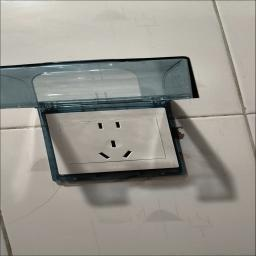outlet: (27, 101, 188, 184)
